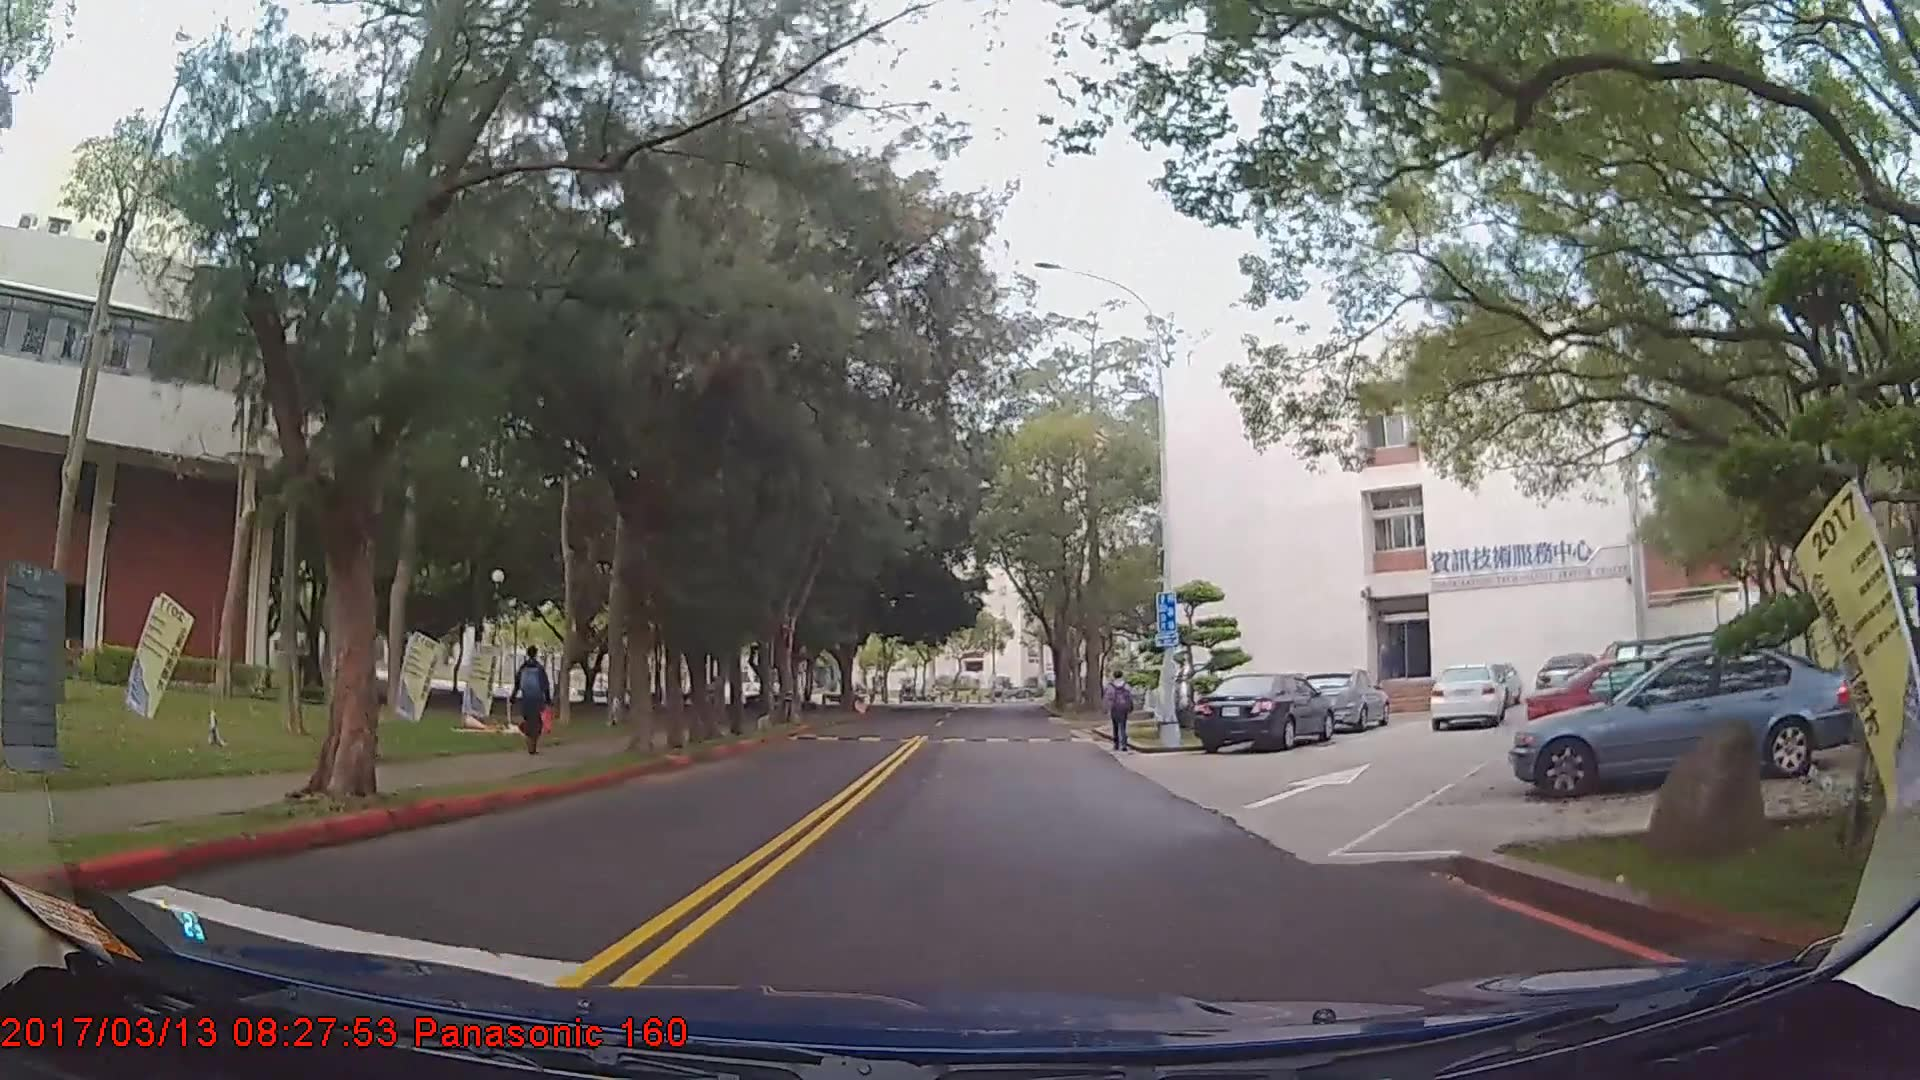pedestrian: (516, 646, 554, 759), (1106, 671, 1136, 755)
vehicle: (1511, 641, 1864, 799), (1523, 653, 1851, 762), (1193, 674, 1335, 757), (1299, 669, 1391, 733), (1430, 663, 1506, 730), (1534, 651, 1598, 702)
